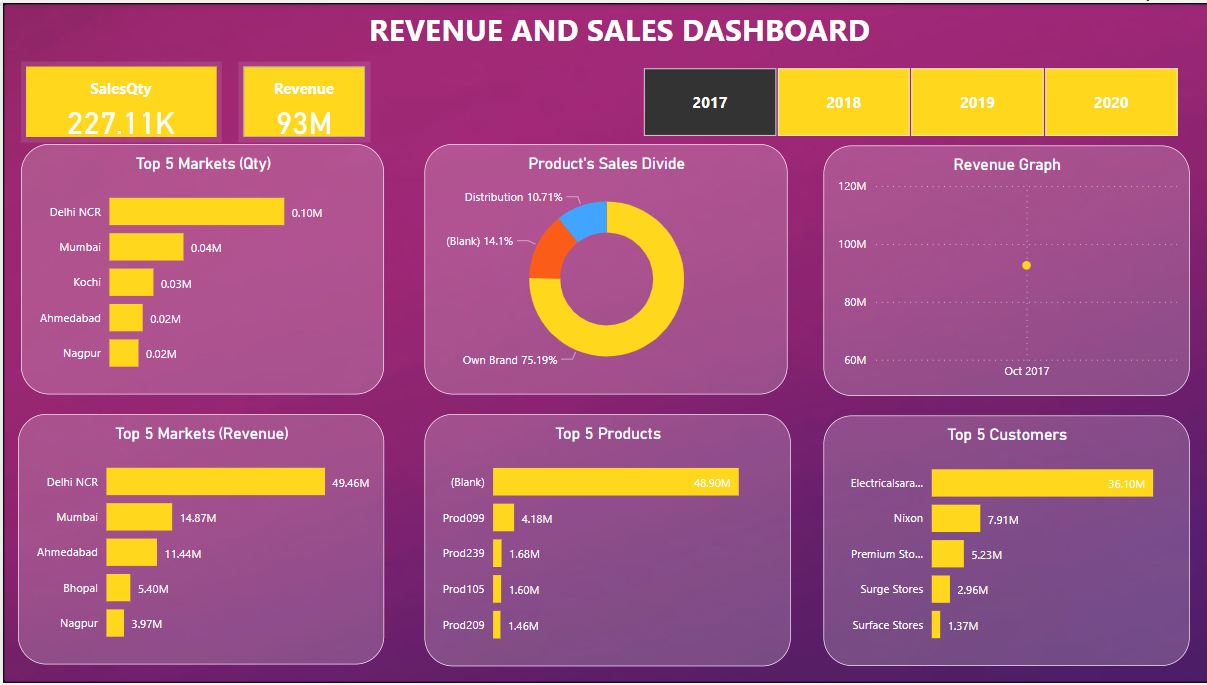

The dashboard page shown, as its layout file describes it:
{"tool":"powerbi","page":{"name":"Page 1","canvas":[1280,720],"ordinal":0},"visuals":[{"type":"barChart","title":"Top 5 Markets (Revenue)","fields":{"Category":["markets.market_name"],"Y":["transactions.Revenue"]},"box":[15.9,435.5,387.8,265.4],"z":0},{"type":"cardVisual","fields":{"Data":["transactions.SalesQty"]},"box":[19.1,62,213,85.8],"z":1000},{"type":"cardVisual","fields":{"Data":["transactions.Revenue"]},"box":[249.5,62,139.9,85.8],"z":2000},{"type":"barChart","title":"Top 5 Customers","fields":{"Category":["customers.customer_name"],"Y":["transactions.Revenue"]},"box":[869.4,437.1,387.8,265.4],"z":3000},{"type":"slicer","fields":{"Values":["date.year"]},"box":[653.2,62,615.1,85.8],"z":4000},{"type":"lineChart","title":"Revenue Graph","fields":{"Y":["transactions.Revenue"],"Category":["date.cy_date.Variation.Date Hierarchy.Year","date.cy_date.Variation.Date Hierarchy.Quarter"]},"box":[869.4,151,387.8,265.4],"z":5000},{"type":"clusteredBarChart","title":"Top 5 Products","fields":{"Category":["products.product_code"],"Y":["transactions.Revenue"]},"box":[446.6,435.5,387.8,267],"z":6000},{"type":"donutChart","title":"Product''s Sales Divide","fields":{"Category":["products.product_type"],"Y":["transactions.SalesQty"]},"box":[446.6,149.4,384.6,265.4],"z":7000},{"type":"textbox","box":[367.2,0,572.2,62],"z":8000},{"type":"barChart","title":"Top 5 Markets (Qty)","fields":{"Category":["markets.market_name"],"Y":["transactions.SalesQty"]},"box":[19.1,149.4,384.6,265.4],"z":9000}]}

Visuals, with their boxes in screenshot pixels (x1, y1, x2, y2), scaled from the page's 1280x720 canvas onto the 1207x685 screenshot:
"Top 5 Markets (Revenue)" barChart: (15, 414, 381, 667)
cardVisual - transactions.SalesQty: (18, 59, 219, 141)
cardVisual - transactions.Revenue: (235, 59, 367, 141)
"Top 5 Customers" barChart: (820, 416, 1186, 668)
slicer - date.year: (616, 59, 1196, 141)
"Revenue Graph" lineChart: (820, 144, 1186, 396)
"Top 5 Products" clusteredBarChart: (421, 414, 787, 668)
"Product''s Sales Divide" donutChart: (421, 142, 784, 395)
textbox: (346, 0, 886, 59)
"Top 5 Markets (Qty)" barChart: (18, 142, 381, 395)
